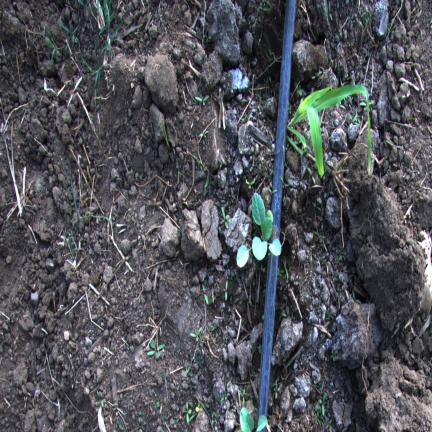crop: (237, 193, 273, 267), (269, 239, 281, 256)
